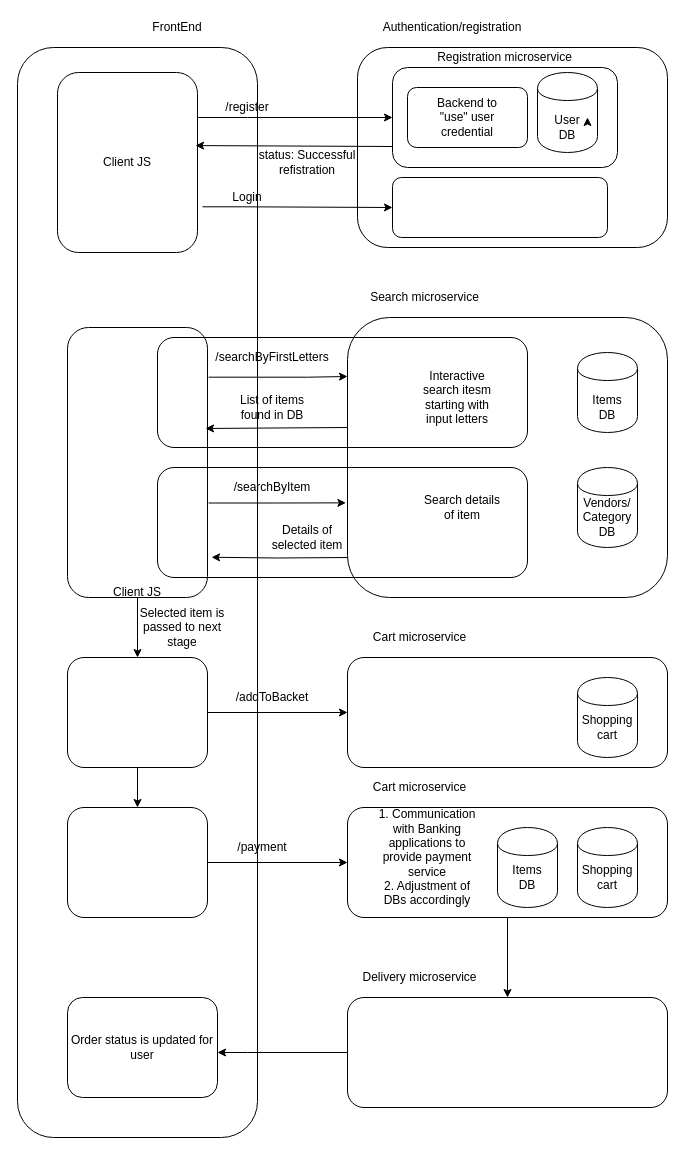
Image size: 685x1155. Some labels were removed from this diagram. Each missing label, with the box of its shape:
Authentication microservice: (392, 176, 608, 238)
Pay for items in backet: (66, 806, 208, 918)
Send order details to deliver company: (346, 996, 668, 1108)
User adds selected items to basket: (66, 656, 208, 768)
User starts to type name of item.: (66, 326, 208, 598)
